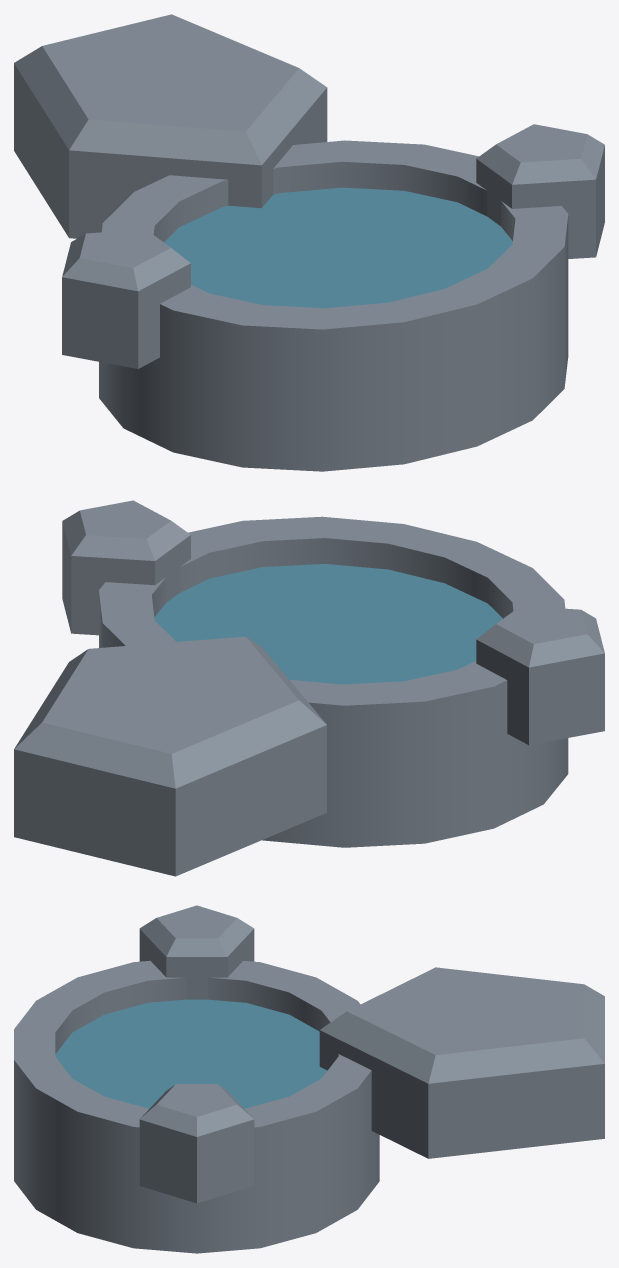
Rendered from port1.fbx.
The picture shows the model from 3 angles, top to bottom: view 1: azimuth 30°, elevation 25°; view 2: azimuth 150°, elevation 25°; view 3: azimuth 270°, elevation 25°; orthographic projection. The views are drawn at different scales.
Parts seen in each view (by area): view 1: polySurface116; view 2: polySurface116; view 3: polySurface116.
Part boxes in pixels (x1=…): polySurface116: x1=14, y1=14, x2=604, y2=471; polySurface116: x1=14, y1=500, x2=604, y2=876; polySurface116: x1=14, y1=905, x2=604, y2=1253.
Bounding box in the file's own units: 28.41 × 9.05 × 31.35.
